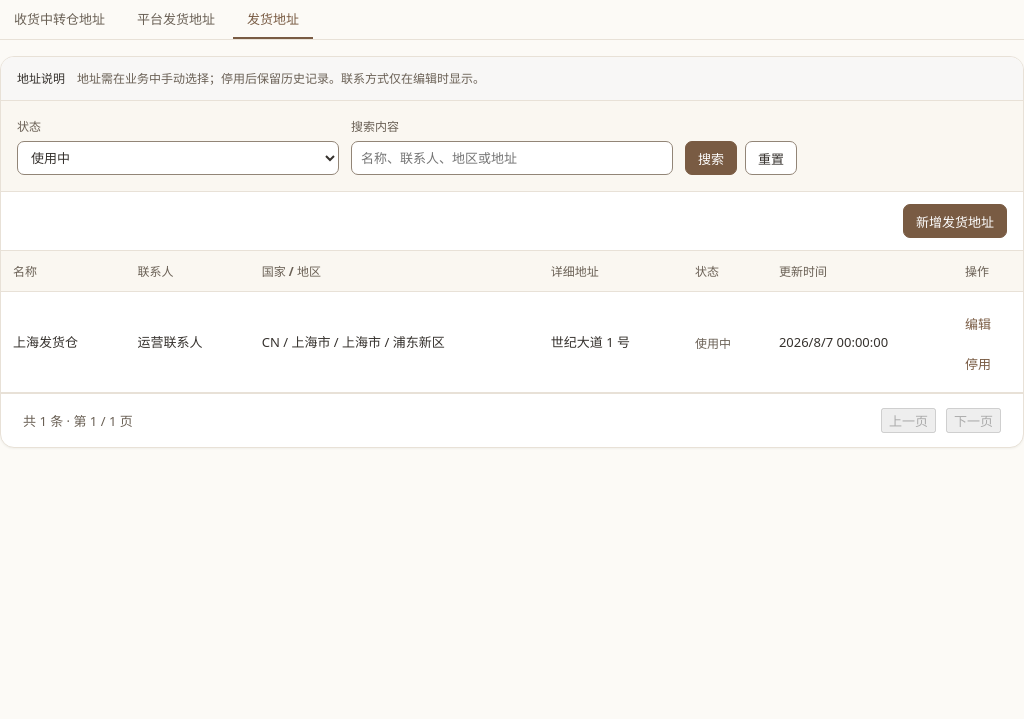
logistics address management › creates a normalized address with labelled grouped fields
Expected: the text "上海发货仓" is shown, [1, 292, 125, 393]
Step 1. Click the button "新增发货地址" → click(955, 221), box [903, 204, 1007, 238]
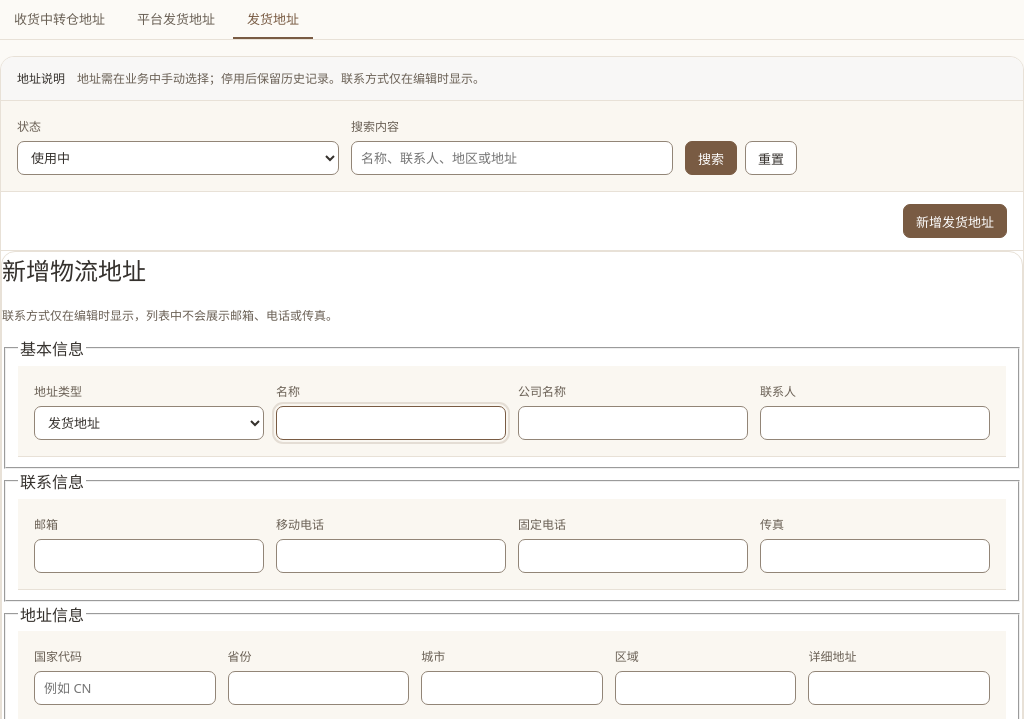
Step 2. Type " 深圳仓 " into the field labelled "名称" → (391, 423), box [276, 406, 506, 440]
Step 3. Type " 仓库主管 " into the field labelled "联系人" → (875, 423), box [760, 406, 990, 440]
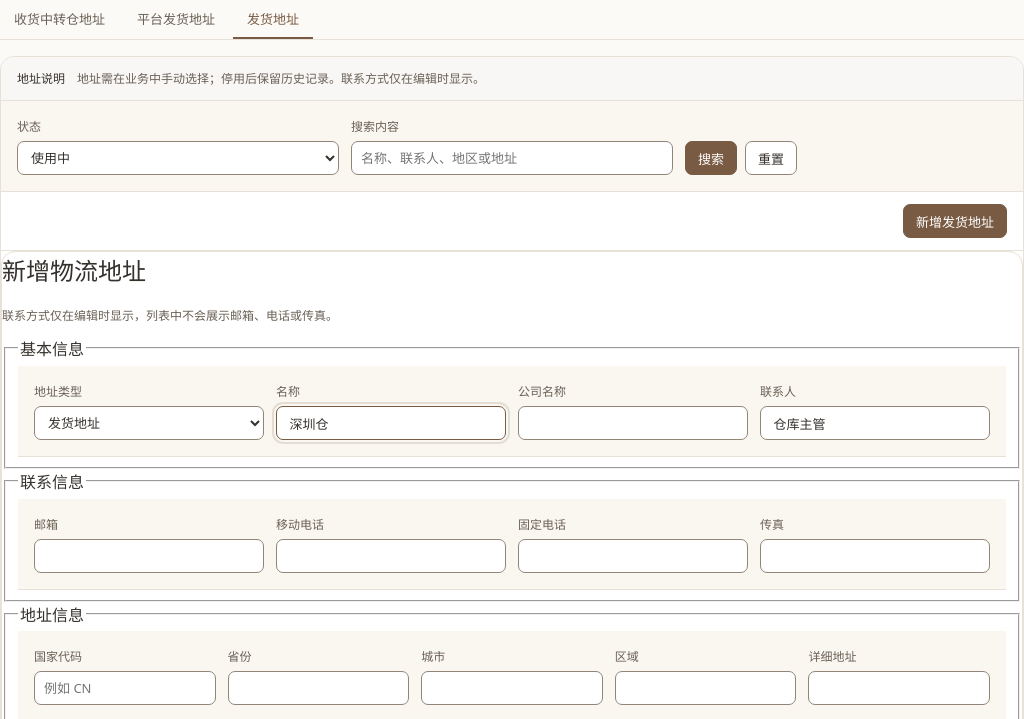
Step 4. Type " ops@example.com " into the field labelled "邮箱" → (149, 556), box [34, 539, 264, 573]
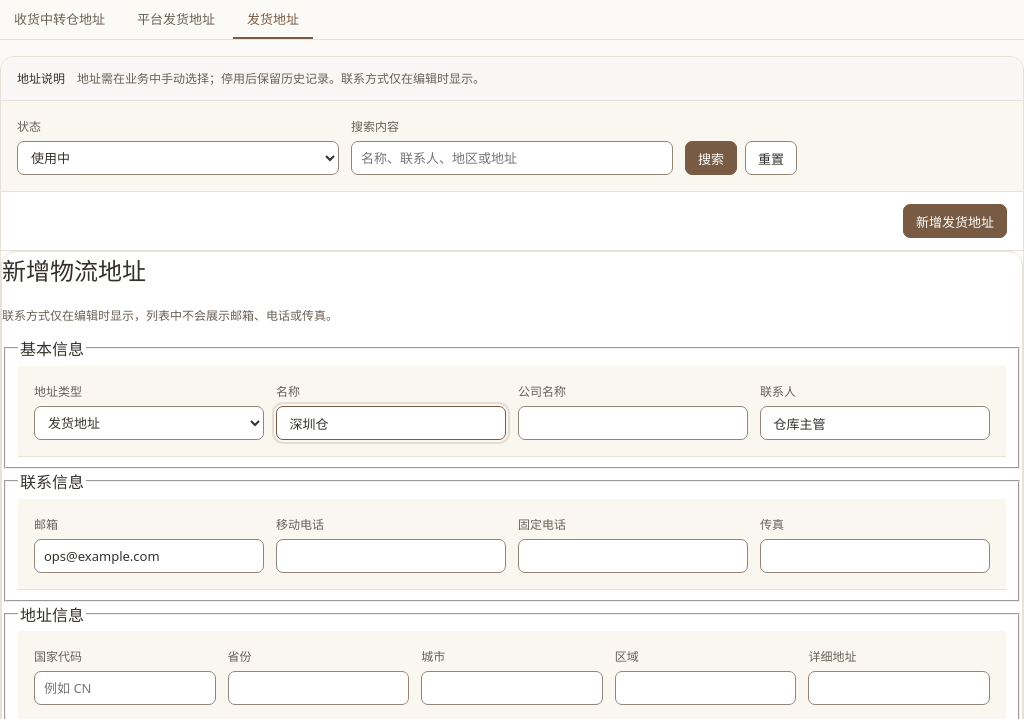
Step 5. Type "cn" into the field labelled "国家代码" → (125, 688), box [34, 671, 216, 705]
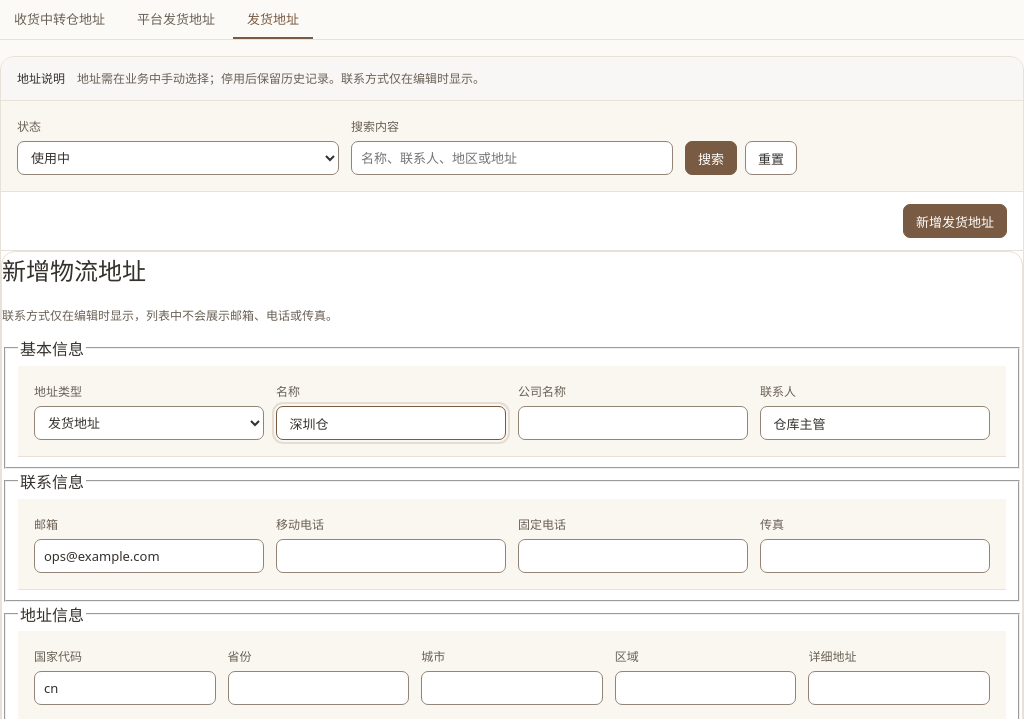
Step 6. Type " 科技园 1 号 " into the field labelled "详细地址" → (899, 688), box [808, 671, 990, 705]
(page scrolled)
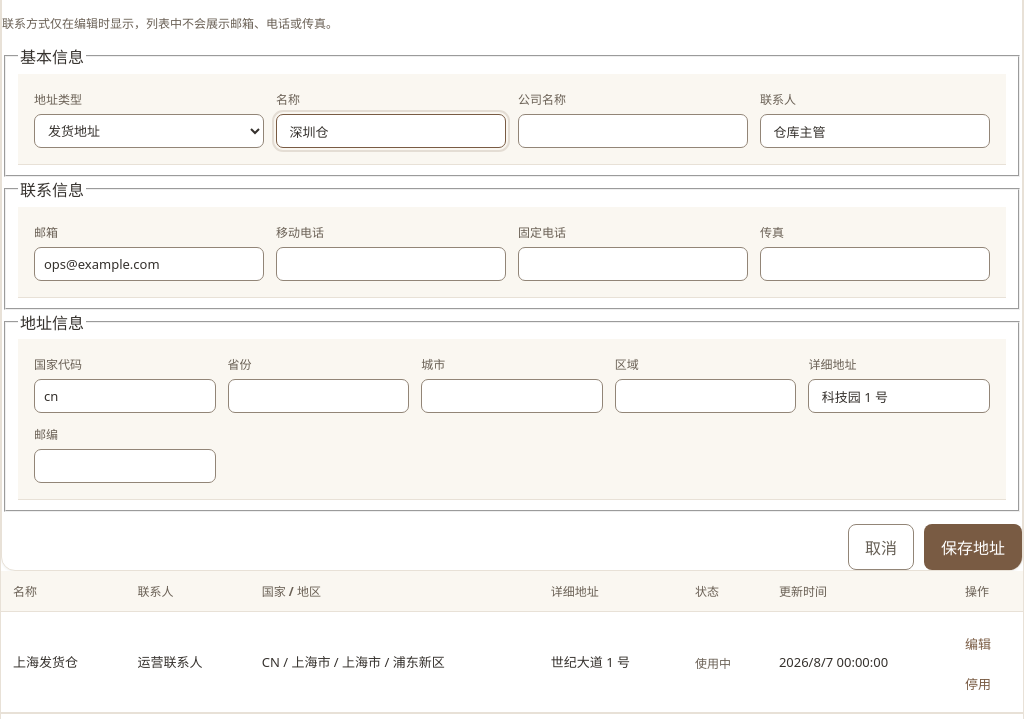
Step 7. Click the button "保存地址" → click(973, 547), box [924, 524, 1022, 570]
(page scrolled)
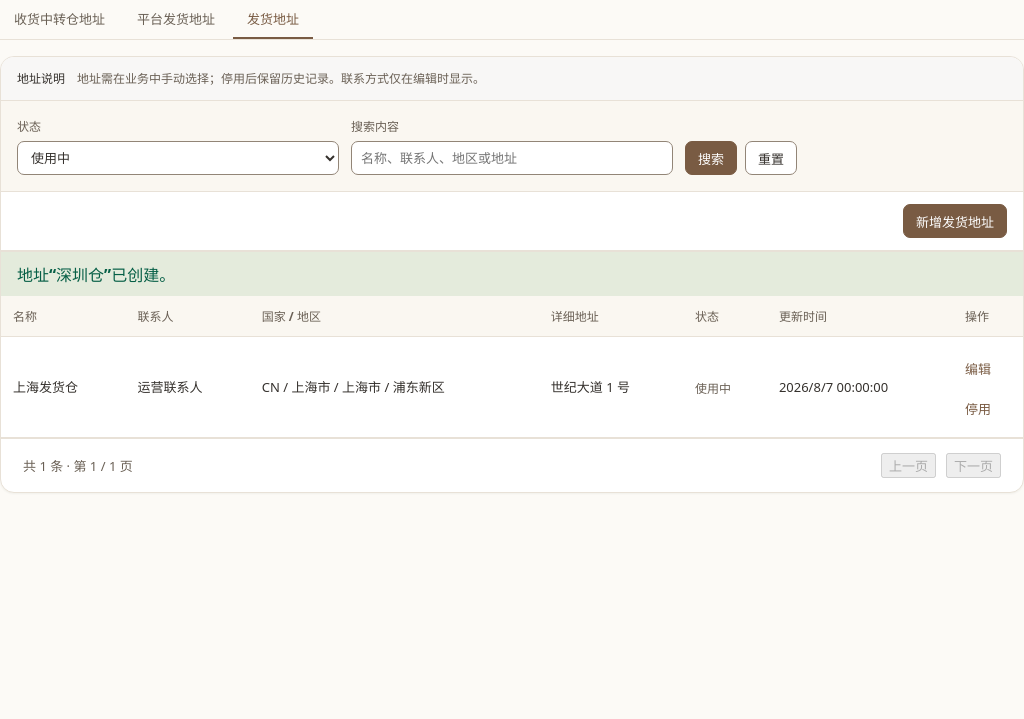
Result: the text "地址“深圳仓”已创建。" is shown at [1, 251, 1023, 296]
